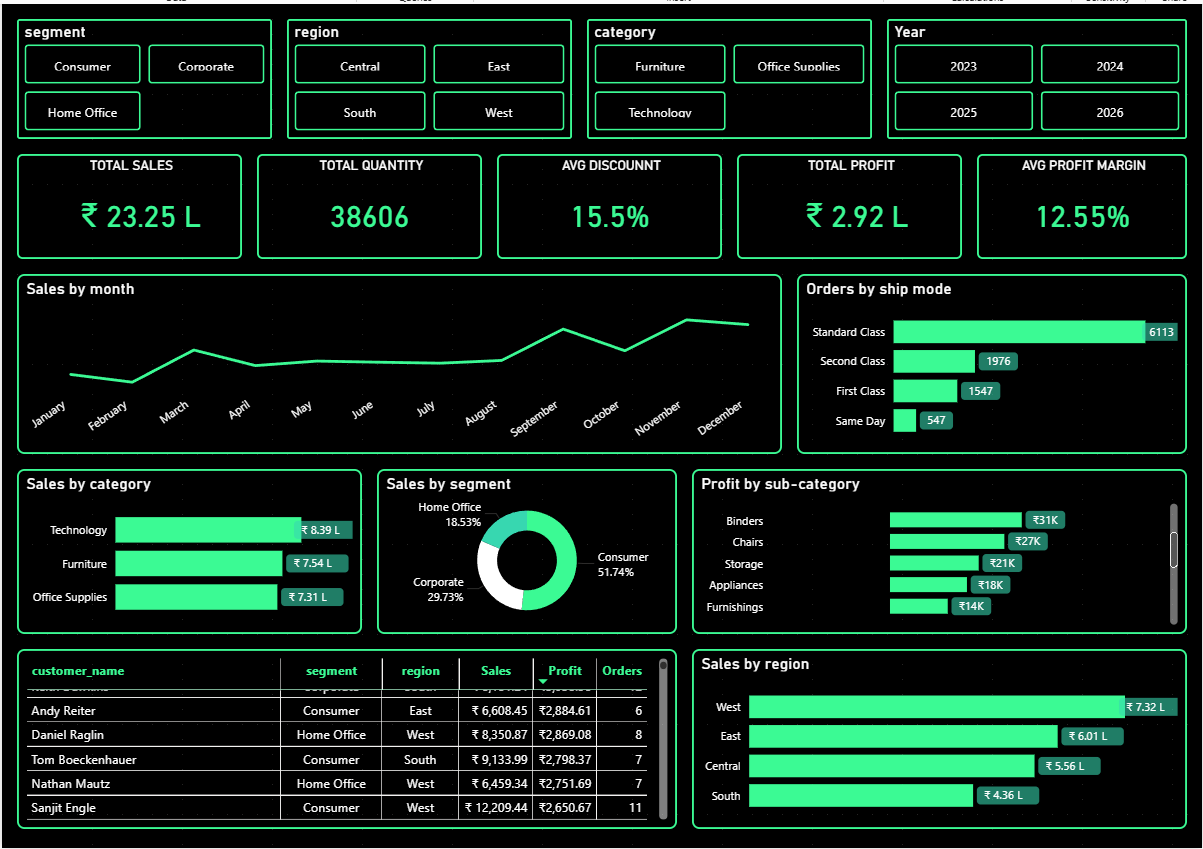

This screenshot's page, from the dashboard's own definition file:
{"tool":"powerbi","page":{"name":"overview","canvas":[1280,900],"ordinal":0},"visuals":[{"type":"tableEx","title":"Top Customers by Sales","fields":{"Values":["super_store customers.customer_name","super_store customers.segment","super_store customers.region","Sum(super_store orders.sales)","Sum(super_store orders.profit)","super_store orders.order_id"]},"box":[16,688,704,192],"z":0},{"type":"card","title":"TOTAL QUANTITY","fields":{"Values":["Sum(super_store orders.quantity)"]},"box":[272,160,240,112],"z":1000},{"type":"card","title":"TOTAL PROFIT","fields":{"Values":["MEASURE TABLE.K Total Profit"]},"box":[784,160,240,112],"z":2000},{"type":"card","title":"TOTAL SALES","fields":{"Values":["MEASURE TABLE.L Total sales"]},"box":[16,160,240,112],"z":3000},{"type":"lineChart","title":"Sales by month ","fields":{"Category":["super_store orders.order_date.Variation.Date Hierarchy.Year","super_store orders.order_date.Variation.Date Hierarchy.Quarter","super_store orders.order_date.Variation.Date Hierarchy.Month","super_store orders.order_date.Variation.Date Hierarchy.Day"],"Y":["Sum(super_store orders.sales)"]},"box":[16,288,816,192],"z":4000},{"type":"clusteredBarChart","title":"Sales by category","fields":{"Category":["super_store products.category"],"Y":["MEASURE TABLE.L Total sales"]},"box":[16,496,368,176],"z":5000},{"type":"donutChart","title":"Sales by segment","fields":{"Category":["super_store customers.segment"],"Y":["CountNonNull(super_store customers.segment)"]},"box":[400,496,320,176],"z":6000},{"type":"clusteredBarChart","title":"Profit by sub-category","fields":{"Category":["super_store products.sub_category"],"Y":["Sum(super_store orders.profit)"]},"box":[736,496,528,176],"z":7000},{"type":"clusteredBarChart","title":"Orders by ship mode","fields":{"Category":["super_store orders.ship_mode"],"Y":["CountNonNull(super_store orders.ship_mode)"]},"box":[848,288,416,192],"z":8000},{"type":"advancedSlicerVisual","fields":{"Values":["super_store customers.segment"]},"box":[16,16,272,128],"z":9000},{"type":"advancedSlicerVisual","fields":{"Values":["super_store customers.region"]},"box":[304,16,304,128],"z":10000},{"type":"advancedSlicerVisual","fields":{"Values":["super_store products.category"]},"box":[624,16,304,128],"z":11000},{"type":"advancedSlicerVisual","fields":{"Values":["super_store orders.order_date.Variation.Date Hierarchy.Year"]},"box":[944,16,320,128],"z":12000},{"type":"card","title":"AVG DISCOUNNT","fields":{"Values":["Avg(super_store orders.discount)"]},"box":[528,160,240,112],"z":13000},{"type":"clusteredBarChart","title":"Sales by region","fields":{"Category":["super_store customers.region"],"Y":["MEASURE TABLE.L Total sales"]},"box":[736,688,528,192],"z":14000},{"type":"card","title":"AVG PROFIT MARGIN","fields":{"Values":["MEASURE TABLE.Avg Profit Margin"]},"box":[1040,160,224,112],"z":15000}]}

Visuals, with their boxes in screenshot pixels (x1, y1, x2, y2), scaled from the page's 1280x900 canvas onto the 1203x849 screenshot:
"Top Customers by Sales" tableEx: 15,649,677,830
"TOTAL QUANTITY" card: 256,151,481,257
"TOTAL PROFIT" card: 737,151,962,257
"TOTAL SALES" card: 15,151,241,257
"Sales by month " lineChart: 15,272,782,453
"Sales by category" clusteredBarChart: 15,468,361,634
"Sales by segment" donutChart: 376,468,677,634
"Profit by sub-category" clusteredBarChart: 692,468,1188,634
"Orders by ship mode" clusteredBarChart: 797,272,1188,453
advancedSlicerVisual - super_store customers.segment: 15,15,271,136
advancedSlicerVisual - super_store customers.region: 286,15,571,136
advancedSlicerVisual - super_store products.category: 586,15,872,136
advancedSlicerVisual - super_store orders.order_date.Variation.Date Hierarchy.Year: 887,15,1188,136
"AVG DISCOUNNT" card: 496,151,722,257
"Sales by region" clusteredBarChart: 692,649,1188,830
"AVG PROFIT MARGIN" card: 977,151,1188,257
